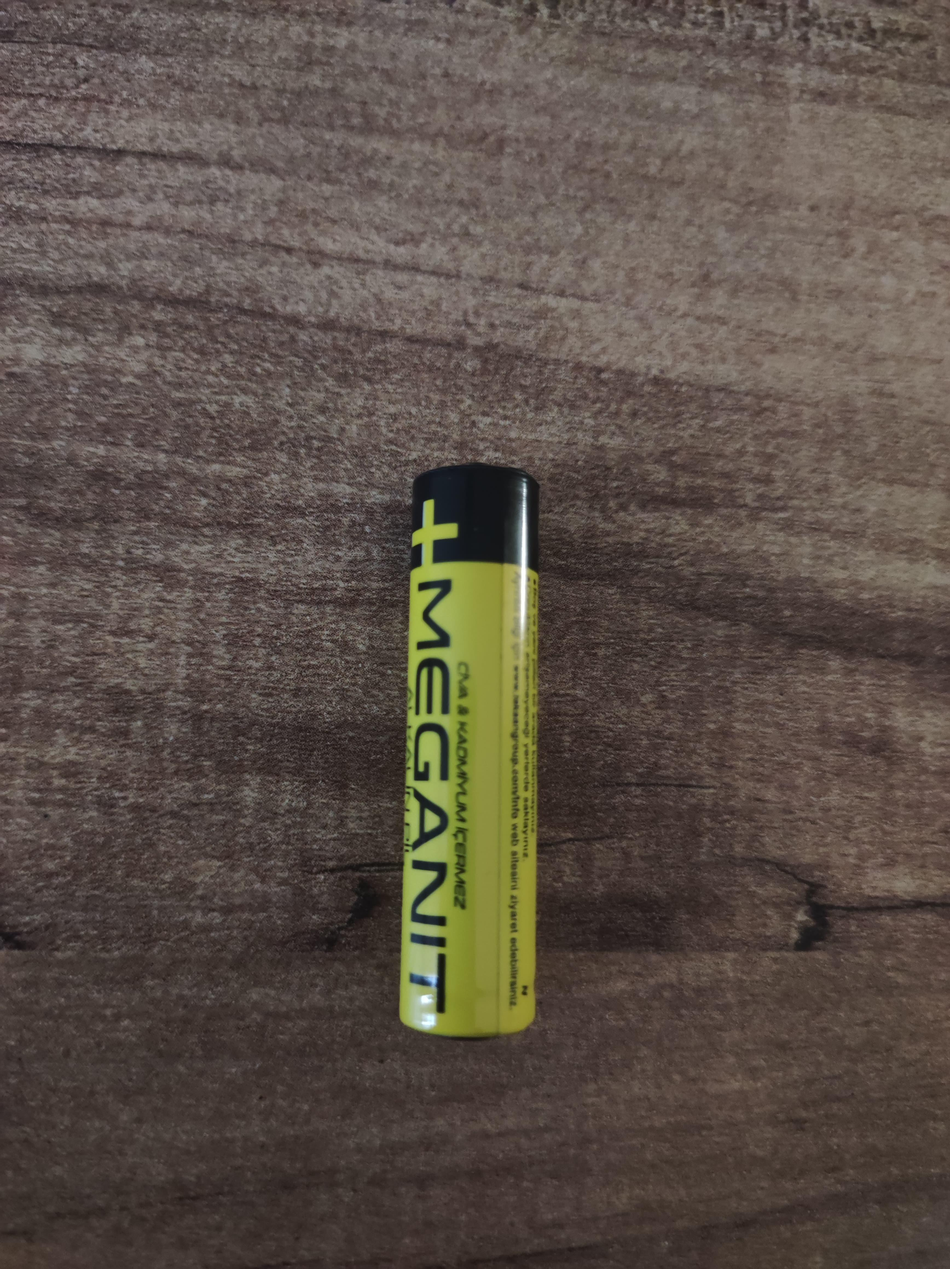AAA: (398, 461, 540, 1038)
